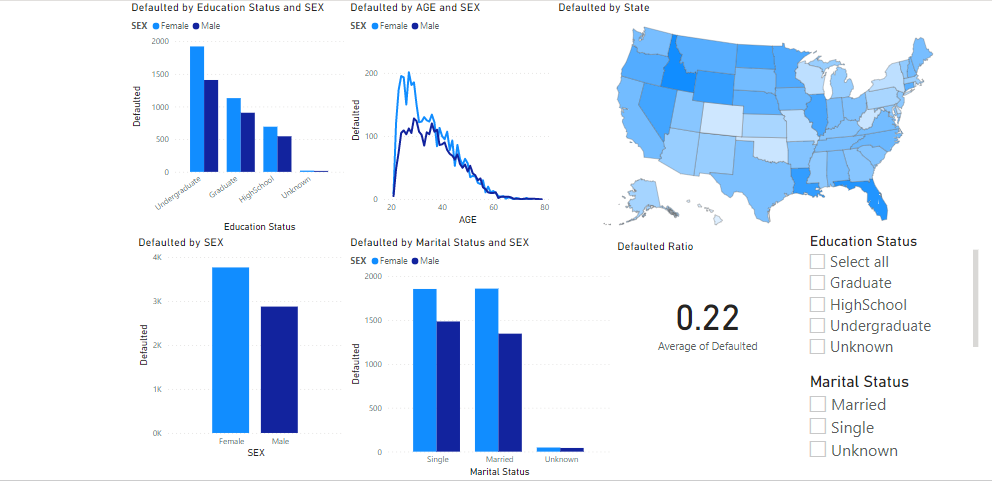

Layout of this report page (visuals, bound fields, positions):
{"tool":"powerbi","page":{"name":"Page 1","canvas":[1280,720],"ordinal":0},"visuals":[{"type":"clusteredColumnChart","fields":{"Y":["Sum(Data.Defaulted)"],"Category":["Data.Education Status"],"Series":["Data.SEX"]},"box":[0,0,328.7,352.7],"z":0},{"type":"lineChart","fields":{"Category":["Data.AGE"],"Series":["Data.SEX"],"Y":["Sum(Data.Defaulted)"]},"box":[328.7,0,311.3,341.8],"z":1000},{"type":"clusteredColumnChart","fields":{"Y":["Sum(Data.Defaulted)"],"Category":["Data.SEX"]},"box":[10.9,352.7,317.8,339.6],"z":2000},{"type":"shapeMap","fields":{"Category":["Data.State"],"Value":["Sum(Data.Defaulted)"]},"box":[640,0,640,359.2],"z":3000},{"type":"clusteredColumnChart","fields":{"Y":["Sum(Data.Defaulted)"],"Category":["Data.Marital Status"],"Series":["Data.SEX"]},"box":[328.7,352.7,400.5,367.9],"z":4000},{"type":"card","title":"Defaulted Ratio","fields":{"Values":["Avg(Data.Defaulted)"]},"box":[729.3,359.2,280.8,224.2],"z":5000},{"type":"slicer","fields":{"Values":["Data.Education Status"]},"box":[1009.1,342.8,270.9,194.2],"z":6000},{"type":"slicer","fields":{"Values":["Data.Marital Status"]},"box":[1009.1,553.7,270.9,165.4],"z":7000}]}

Visuals, with their boxes on the page's 1280x720 design canvas (x1, y1, x2, y2). These are canvas units, not pixel positions in the 992x482 screenshot, which may show the page scaled, cropped or inside an application window:
clusteredColumnChart - Sum(Data.Defaulted) x Data.Education Status: region(0, 0, 329, 353)
lineChart - Data.AGE x Data.SEX: region(329, 0, 640, 342)
clusteredColumnChart - Sum(Data.Defaulted) x Data.SEX: region(11, 353, 329, 692)
shapeMap - Data.State x Sum(Data.Defaulted): region(640, 0, 1280, 359)
clusteredColumnChart - Sum(Data.Defaulted) x Data.Marital Status: region(329, 353, 729, 721)
"Defaulted Ratio" card: region(729, 359, 1010, 583)
slicer - Data.Education Status: region(1009, 343, 1280, 537)
slicer - Data.Marital Status: region(1009, 554, 1280, 719)
